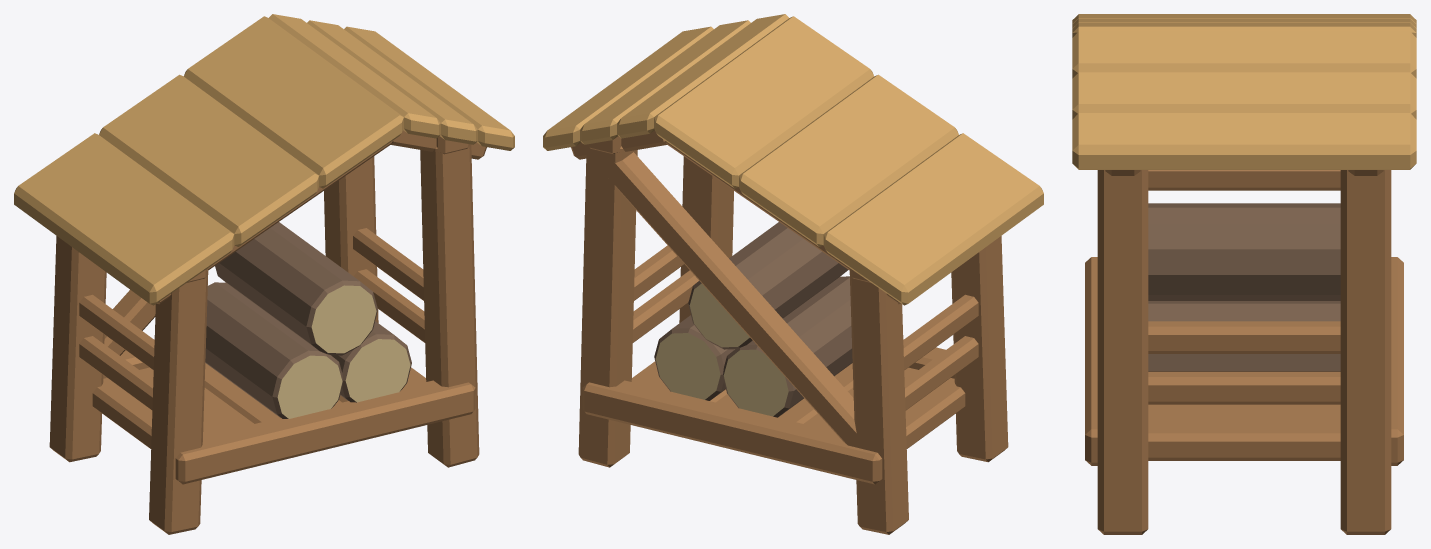
Rendered from recovery-rack-b.glb.
3 renders of one model, left to right at view 1: azimuth 30°, elevation 25°; view 2: azimuth 150°, elevation 25°; view 3: azimuth 270°, elevation 25°, orthographic. The views are drawn at different scales.
Parts seen in each view (by area): view 1: roof_slope_0_board_0, roof_slope_0_board_2, roof_slope_0_board_1, post_1_1, front_lip, log_2, post_0_1, log_0, post_0_0, post_1_0, log_1, roof_slope_1_board_0 (+11 smaller); view 2: roof_slope_0_board_0, roof_slope_0_board_2, roof_slope_0_board_1, back_brace, post_1_0, rear_bearer, post_0_0, post_0_1, log_2, log_0, log_1, roof_slope_1_board_0 (+12 smaller); view 3: roof_slope_1_board_2, log_2, post_1_0, post_1_1, roof_slope_1_board_0, roof_slope_1_board_1, bed_board_2, log_1, side_rail_1_0, side_rail_1_1, side_rail_0_1, roof_slope_0_board_2 (+4 smaller).
Part boxes in pixels (x1=…): roof_slope_0_board_0: x1=14, y1=133, x2=234, y2=305; roof_slope_0_board_2: x1=183, y1=16, x2=403, y2=188; roof_slope_0_board_1: x1=99, y1=74, x2=318, y2=246; post_1_1: x1=420, y1=144, x2=479, y2=467; front_lip: x1=175, y1=380, x2=475, y2=484; log_2: x1=215, y1=222, x2=377, y2=355; post_0_1: x1=149, y1=270, x2=208, y2=534; log_0: x1=205, y1=282, x2=343, y2=418; post_0_0: x1=49, y1=236, x2=106, y2=462; post_1_0: x1=324, y1=156, x2=378, y2=322; log_1: x1=331, y1=321, x2=411, y2=402; roof_slope_1_board_0: x1=269, y1=14, x2=440, y2=138; roof_slope_0_board_0: x1=823, y1=133, x2=1043, y2=305; roof_slope_0_board_2: x1=654, y1=16, x2=874, y2=188; roof_slope_0_board_1: x1=739, y1=74, x2=958, y2=246; back_brace: x1=599, y1=152, x2=863, y2=447; post_1_0: x1=578, y1=144, x2=637, y2=467; rear_bearer: x1=582, y1=380, x2=882, y2=484; post_0_0: x1=849, y1=270, x2=908, y2=534; post_0_1: x1=951, y1=236, x2=1008, y2=462; log_2: x1=688, y1=222, x2=848, y2=349; log_0: x1=723, y1=276, x2=852, y2=417; log_1: x1=654, y1=315, x2=734, y2=400; roof_slope_1_board_0: x1=617, y1=14, x2=788, y2=138; roof_slope_1_board_2: x1=1072, y1=113, x2=1416, y2=169; log_2: x1=1148, y1=203, x2=1340, y2=300; post_1_0: x1=1340, y1=170, x2=1391, y2=534; post_1_1: x1=1097, y1=170, x2=1148, y2=534; roof_slope_1_board_0: x1=1072, y1=31, x2=1416, y2=78; roof_slope_1_board_1: x1=1072, y1=72, x2=1416, y2=119; bed_board_2: x1=1148, y1=404, x2=1340, y2=460; log_1: x1=1148, y1=301, x2=1340, y2=371; side_rail_1_0: x1=1148, y1=371, x2=1340, y2=404; side_rail_1_1: x1=1148, y1=321, x2=1340, y2=353; side_rail_0_1: x1=1148, y1=170, x2=1340, y2=190; roof_slope_0_board_2: x1=1072, y1=22, x2=1416, y2=37.
Bounding box in the file's own units: 2.04 × 2 × 1.36.
